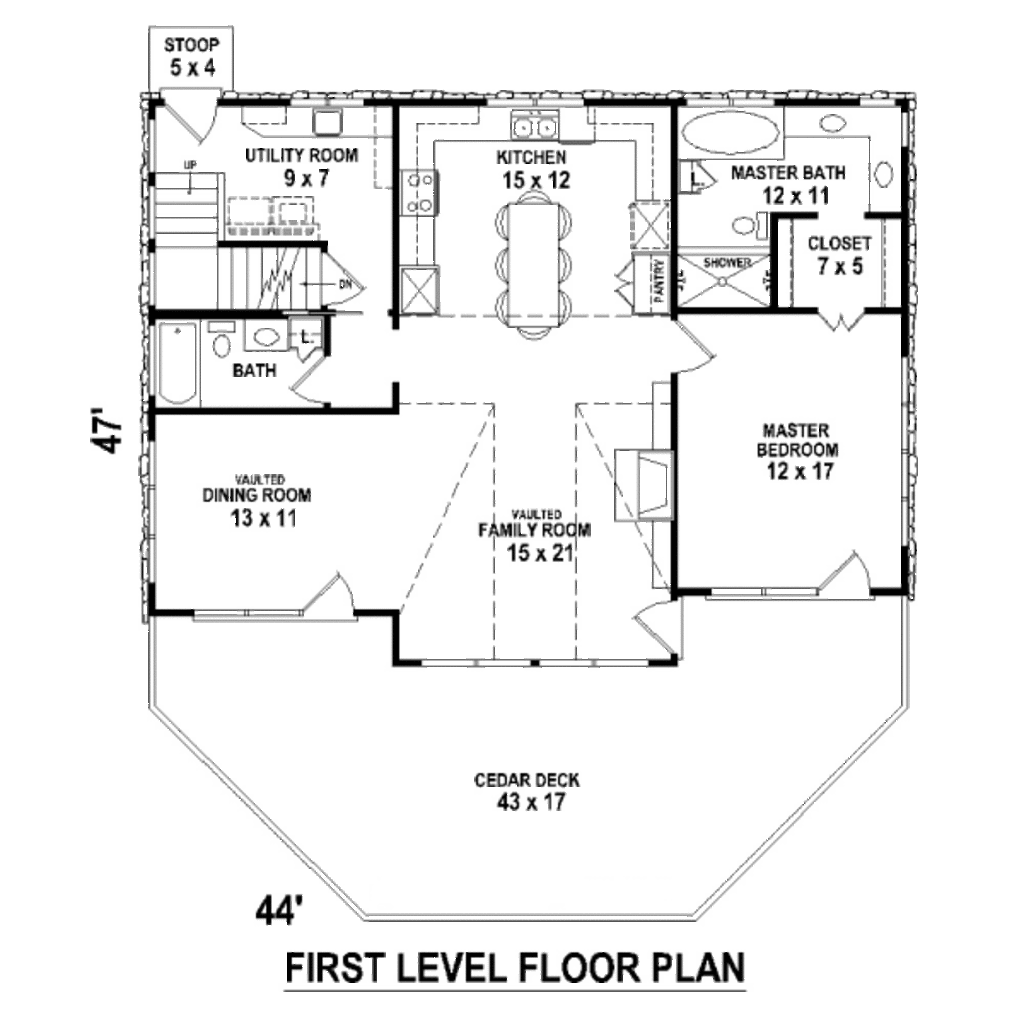door: (158, 81, 223, 147), (664, 316, 728, 378), (631, 601, 690, 662), (298, 568, 359, 625), (821, 546, 880, 600), (286, 354, 342, 408), (321, 252, 367, 311), (813, 306, 864, 339), (609, 254, 634, 320)
kitchen_bar: (491, 178, 585, 357)
large_sink: (201, 311, 237, 370), (732, 205, 767, 254)
small_sink: (796, 108, 866, 135), (875, 154, 905, 212), (239, 319, 283, 354)
stairs: (155, 158, 323, 317)
tub: (675, 106, 790, 163), (153, 317, 205, 411)
twin_sink: (499, 105, 567, 146)
window: (705, 579, 818, 603), (186, 603, 298, 625)
